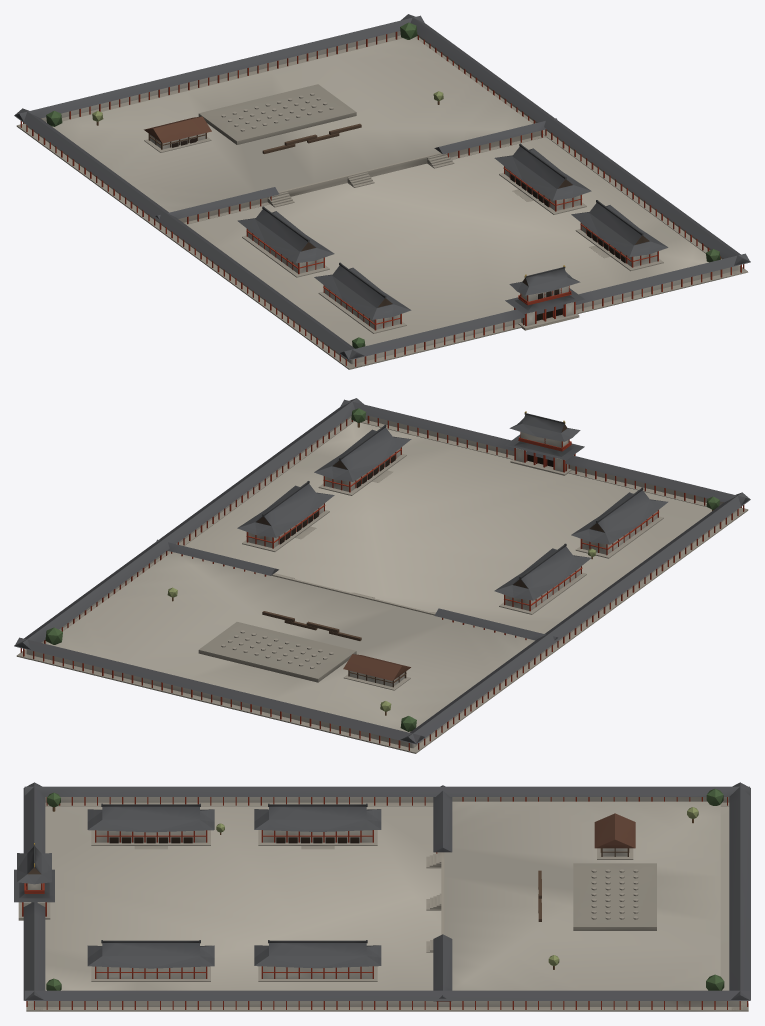
The model's file is daigokuden-752.glb.
3 renders of one model, top to bottom at view 1: azimuth 30°, elevation 25°; view 2: azimuth 150°, elevation 25°; view 3: azimuth 270°, elevation 25°, orthographic. The views are drawn at different scales.
Parts seen in each view (by area): view 1: p0_grounds, p1_halls, p2_roofs; view 2: p0_grounds, p1_halls, p2_roofs; view 3: p0_grounds, p1_halls, p2_roofs.
Part boxes in pixels (x1,y1,x2,y2): p0_grounds: (52,37,748,369); p1_halls: (14,14,750,369); p2_roofs: (46,22,720,348); p0_grounds: (30,421,711,753); p1_halls: (14,398,750,753); p2_roofs: (45,408,719,731); p0_grounds: (45,801,729,990); p1_halls: (18,782,750,1011); p2_roofs: (14,788,724,990).
Size of the model in its own units: 182 by 21.01 by 265.
